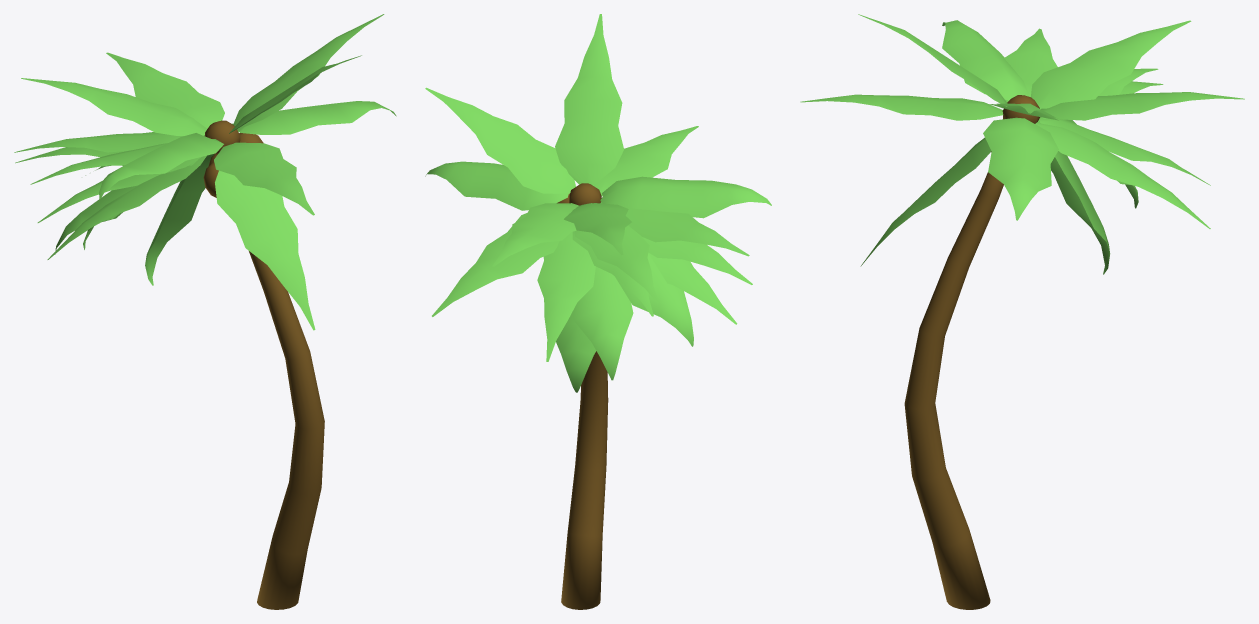
File: palm tree coconuts.fbx
The picture shows the model from 3 angles, left to right: view 1: azimuth 30°, elevation 25°; view 2: azimuth 150°, elevation 25°; view 3: azimuth 270°, elevation 25°; orthographic projection. The views are drawn at different scales.
Visible parts, largest first — view 1: Trunk, LeafEmit|Plane|Dupli|5, LeafEmit|Plane|Dupli|6, LeafEmit|Plane|Dupli|11, LeafEmit|Plane|Dupli|13, LeafEmit|Plane.001|Dupli|16, LeafEmit|Plane.001|Dupli|3, LeafEmit|Plane|Dupli|15, LeafEmit|Plane.001|Dupli|8, LeafEmit|Plane|Dupli|1, LeafEmit|Plane|Dupli|10, LeafEmit|Plane|Dupli|4 (+5 smaller); view 2: Trunk, LeafEmit|Plane|Dupli|17, LeafEmit|Plane|Dupli|15, LeafEmit|Plane.001|Dupli|3, LeafEmit|Plane|Dupli|12, LeafEmit|Plane.001|Dupli|7, LeafEmit|Plane.001|Dupli|16, LeafEmit|Plane|Dupli|14, LeafEmit|Plane|Dupli|4, LeafEmit|Plane|Dupli|13, LeafEmit|Plane|Dupli|6, LeafEmit|Plane|Dupli|10 (+7 smaller); view 3: Trunk, LeafEmit|Plane|Dupli|11, LeafEmit|Plane.001|Dupli|16, LeafEmit|Plane.001|Dupli|3, LeafEmit|Plane|Dupli|14, LeafEmit|Plane|Dupli|13, LeafEmit|Plane|Dupli|6, LeafEmit|Plane.001|Dupli|8, LeafEmit|Plane|Dupli|5, LeafEmit|Plane|Dupli|4, LeafEmit|Plane|Dupli|12, LeafEmit|Plane|Dupli|17.
Part boxes in pixels (x1,y1,x2,y2): Trunk: [249, 251, 324, 609]; LeafEmit|Plane|Dupli|5: [215, 170, 315, 330]; LeafEmit|Plane|Dupli|6: [214, 142, 314, 215]; LeafEmit|Plane|Dupli|11: [21, 78, 206, 135]; LeafEmit|Plane|Dupli|13: [106, 52, 224, 128]; LeafEmit|Plane.001|Dupli|16: [237, 101, 396, 134]; LeafEmit|Plane.001|Dupli|3: [99, 133, 223, 199]; LeafEmit|Plane|Dupli|15: [233, 14, 384, 129]; LeafEmit|Plane.001|Dupli|8: [145, 154, 214, 285]; LeafEmit|Plane|Dupli|1: [47, 155, 206, 259]; LeafEmit|Plane|Dupli|10: [14, 132, 183, 152]; LeafEmit|Plane|Dupli|4: [30, 143, 167, 184]; Trunk: [561, 351, 608, 609]; LeafEmit|Plane|Dupli|17: [555, 14, 623, 185]; LeafEmit|Plane|Dupli|15: [425, 87, 575, 194]; LeafEmit|Plane.001|Dupli|3: [600, 176, 771, 218]; LeafEmit|Plane|Dupli|12: [537, 232, 595, 361]; LeafEmit|Plane.001|Dupli|7: [572, 266, 633, 380]; LeafEmit|Plane.001|Dupli|16: [425, 161, 568, 210]; LeafEmit|Plane|Dupli|14: [432, 213, 559, 316]; LeafEmit|Plane|Dupli|4: [600, 202, 749, 256]; LeafEmit|Plane|Dupli|13: [492, 203, 579, 266]; LeafEmit|Plane|Dupli|6: [593, 126, 698, 196]; LeafEmit|Plane|Dupli|10: [574, 225, 659, 303]; Trunk: [904, 172, 1003, 609]; LeafEmit|Plane|Dupli|11: [1031, 20, 1191, 108]; LeafEmit|Plane.001|Dupli|16: [983, 117, 1058, 220]; LeafEmit|Plane.001|Dupli|3: [942, 20, 1028, 100]; LeafEmit|Plane|Dupli|14: [1035, 121, 1210, 228]; LeafEmit|Plane|Dupli|13: [1041, 92, 1244, 120]; LeafEmit|Plane|Dupli|6: [800, 94, 1003, 120]; LeafEmit|Plane.001|Dupli|8: [1050, 151, 1110, 274]; LeafEmit|Plane|Dupli|5: [860, 137, 991, 266]; LeafEmit|Plane|Dupli|4: [1004, 28, 1057, 96]; LeafEmit|Plane|Dupli|12: [1038, 118, 1210, 185]; LeafEmit|Plane|Dupli|17: [858, 14, 1007, 106].
Bounding box in the file's own units: 300 × 466 × 311.
